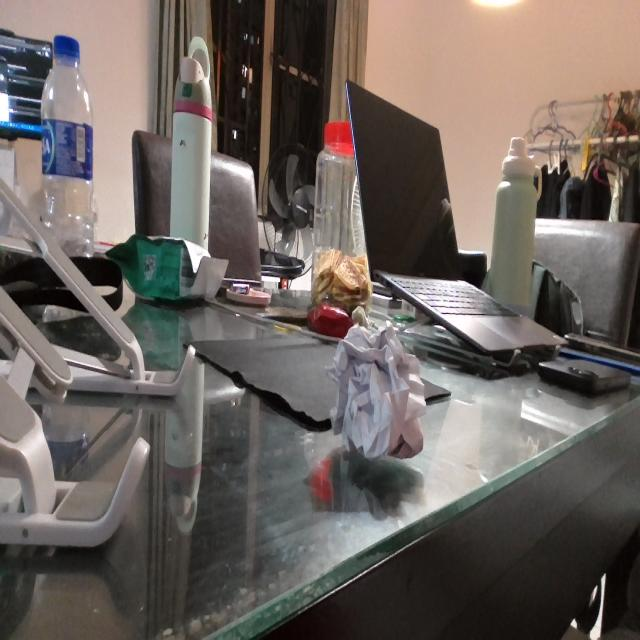crumpled_paper: (330, 320, 427, 466)
